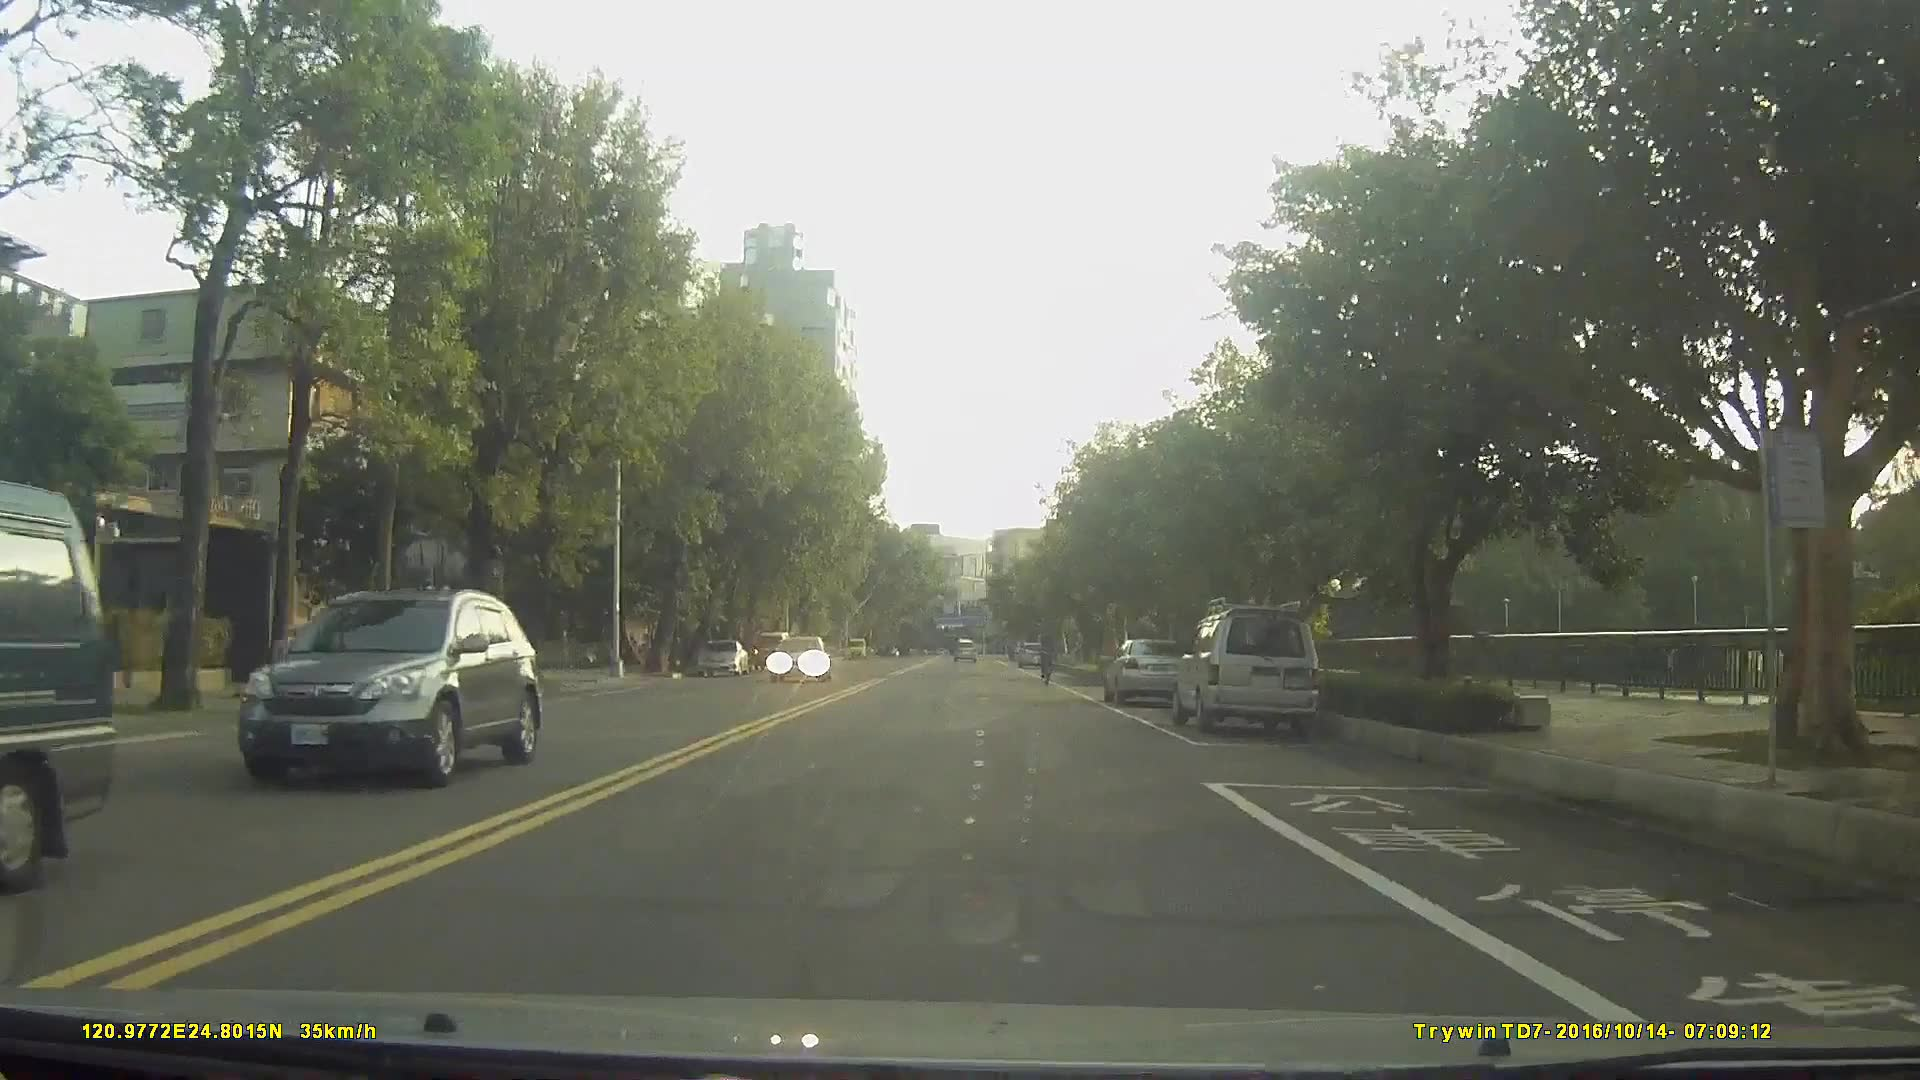rider: (1037, 628, 1057, 688)
vehicle: (237, 586, 540, 790), (0, 472, 119, 895), (1171, 605, 1321, 737), (1103, 633, 1193, 704), (765, 633, 830, 685), (695, 634, 750, 674), (751, 630, 792, 670), (1017, 638, 1046, 668), (950, 634, 978, 660)
